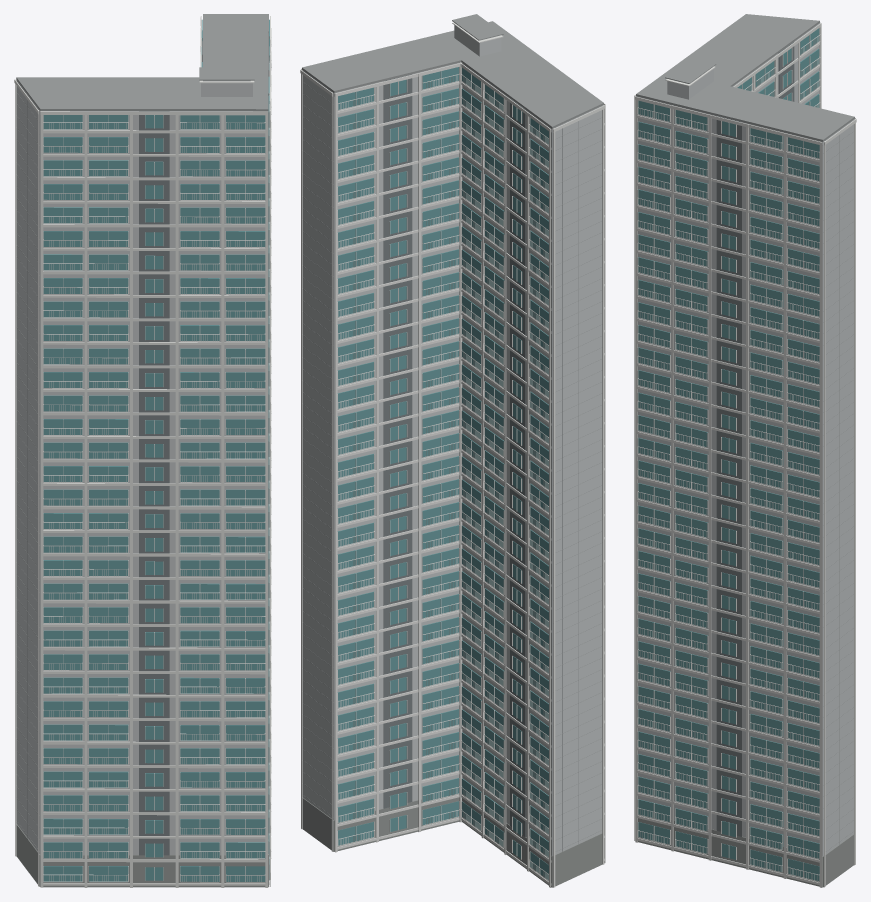
The model's file is bespoke-jamsil-ricenz-249.glb.
3 renders of one model, left to right at view 1: azimuth 30°, elevation 25°; view 2: azimuth 150°, elevation 25°; view 3: azimuth 270°, elevation 25°, orthographic. The views are drawn at different scales.
Visible parts, largest first — view 1: Ricenz249_editable_Ricenz249_turquoise_balcony_glazing, Ricenz249_editable_Ricenz249_light_grey_solid_wall, Ricenz249_white_exact_chunk_3, Ricenz249_white_exact_chunk_2, Ricenz249_white_exact_chunk_1, Ricenz249_editable_Ricenz249_modest_grey_flat_roof_caps, Ricenz249_editable_Ricenz249_narrow_charcoal_service_strips, Ricenz249_editable_Ricenz249_muted_ground_wall, Ricenz249_white_exact_chunk_5, Ricenz249_white_exact_chunk_4; view 2: Ricenz249_editable_Ricenz249_light_grey_solid_wall, Ricenz249_editable_Ricenz249_turquoise_balcony_glazing, Ricenz249_white_exact_chunk_5, Ricenz249_white_exact_chunk_1, Ricenz249_white_exact_chunk_6, Ricenz249_white_exact_chunk_0, Ricenz249_editable_Ricenz249_narrow_charcoal_service_strips, Ricenz249_editable_Ricenz249_modest_grey_flat_roof_caps, Ricenz249_editable_Ricenz249_muted_ground_wall, Ricenz249_white_exact_chunk_3; view 3: Ricenz249_editable_Ricenz249_turquoise_balcony_glazing, Ricenz249_editable_Ricenz249_light_grey_solid_wall, Ricenz249_white_exact_chunk_4, Ricenz249_white_exact_chunk_5, Ricenz249_white_exact_chunk_3, Ricenz249_editable_Ricenz249_modest_grey_flat_roof_caps, Ricenz249_editable_Ricenz249_narrow_charcoal_service_strips, Ricenz249_editable_Ricenz249_muted_ground_wall, Ricenz249_white_exact_chunk_1.
Part boxes in pixels (bbox=[...]): Ricenz249_editable_Ricenz249_turquoise_balcony_glazing: bbox=[43, 19, 269, 881]; Ricenz249_editable_Ricenz249_light_grey_solid_wall: bbox=[16, 33, 268, 854]; Ricenz249_white_exact_chunk_3: bbox=[40, 104, 271, 887]; Ricenz249_white_exact_chunk_2: bbox=[87, 115, 265, 885]; Ricenz249_white_exact_chunk_1: bbox=[14, 79, 129, 886]; Ricenz249_editable_Ricenz249_modest_grey_flat_roof_caps: bbox=[16, 14, 268, 848]; Ricenz249_editable_Ricenz249_narrow_charcoal_service_strips: bbox=[139, 41, 269, 855]; Ricenz249_editable_Ricenz249_muted_ground_wall: bbox=[16, 824, 268, 887]; Ricenz249_white_exact_chunk_5: bbox=[200, 16, 271, 886]; Ricenz249_white_exact_chunk_4: bbox=[269, 47, 271, 813]; Ricenz249_editable_Ricenz249_light_grey_solid_wall: bbox=[302, 25, 603, 856]; Ricenz249_editable_Ricenz249_turquoise_balcony_glazing: bbox=[337, 67, 548, 879]; Ricenz249_white_exact_chunk_5: bbox=[300, 68, 459, 851]; Ricenz249_white_exact_chunk_1: bbox=[460, 62, 605, 887]; Ricenz249_white_exact_chunk_6: bbox=[334, 22, 503, 852]; Ricenz249_white_exact_chunk_0: bbox=[461, 67, 526, 868]; Ricenz249_editable_Ricenz249_narrow_charcoal_service_strips: bbox=[383, 74, 525, 836]; Ricenz249_editable_Ricenz249_modest_grey_flat_roof_caps: bbox=[302, 14, 603, 851]; Ricenz249_editable_Ricenz249_muted_ground_wall: bbox=[302, 794, 602, 887]; Ricenz249_white_exact_chunk_3: bbox=[604, 103, 605, 862]; Ricenz249_editable_Ricenz249_turquoise_balcony_glazing: bbox=[638, 28, 819, 881]; Ricenz249_editable_Ricenz249_light_grey_solid_wall: bbox=[636, 23, 854, 856]; Ricenz249_white_exact_chunk_4: bbox=[673, 109, 819, 885]; Ricenz249_white_exact_chunk_5: bbox=[635, 96, 856, 887]; Ricenz249_white_exact_chunk_3: bbox=[634, 94, 708, 857]; Ricenz249_editable_Ricenz249_modest_grey_flat_roof_caps: bbox=[636, 14, 854, 851]; Ricenz249_editable_Ricenz249_narrow_charcoal_service_strips: bbox=[716, 42, 794, 836]; Ricenz249_editable_Ricenz249_muted_ground_wall: bbox=[638, 814, 853, 887]; Ricenz249_white_exact_chunk_1: bbox=[733, 22, 821, 108].
Size of the model in its own units: 35.53 by 99.36 by 26.17.
